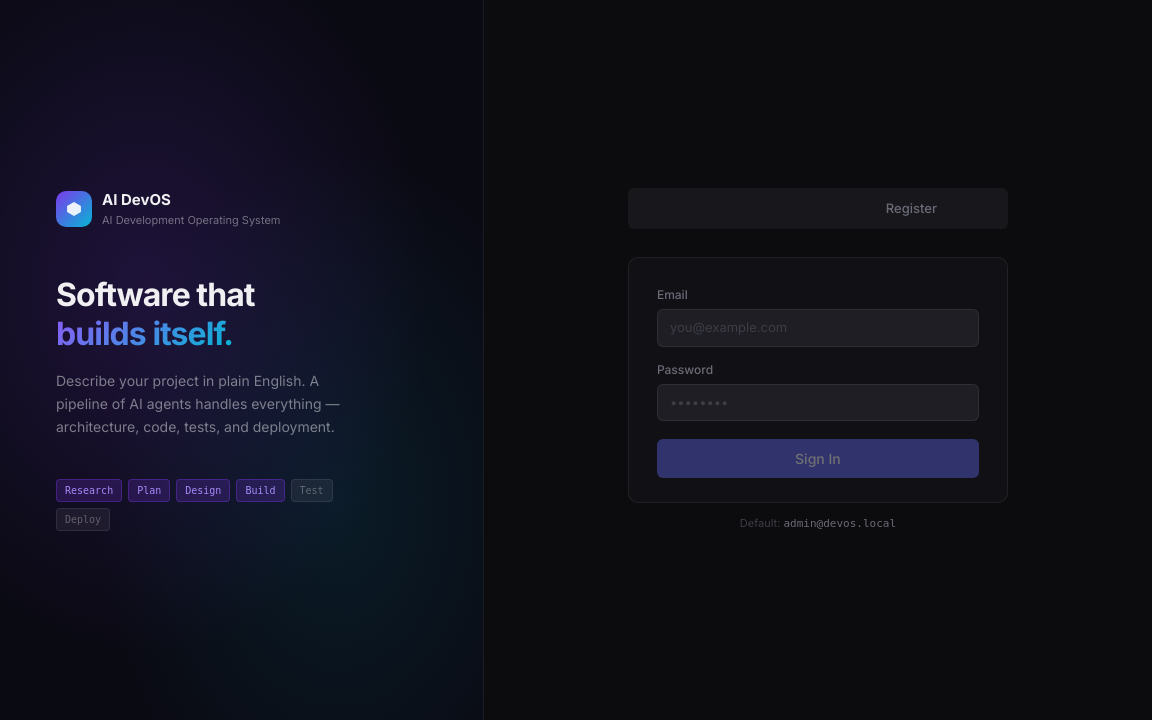
Test: LoginPage — register mode › shows 'Passwords don't match' error before submitting
This screenshot has width=1152, height=720.
Step 1. Click the button "Register" → (911, 208), box [818,190,1005,226]
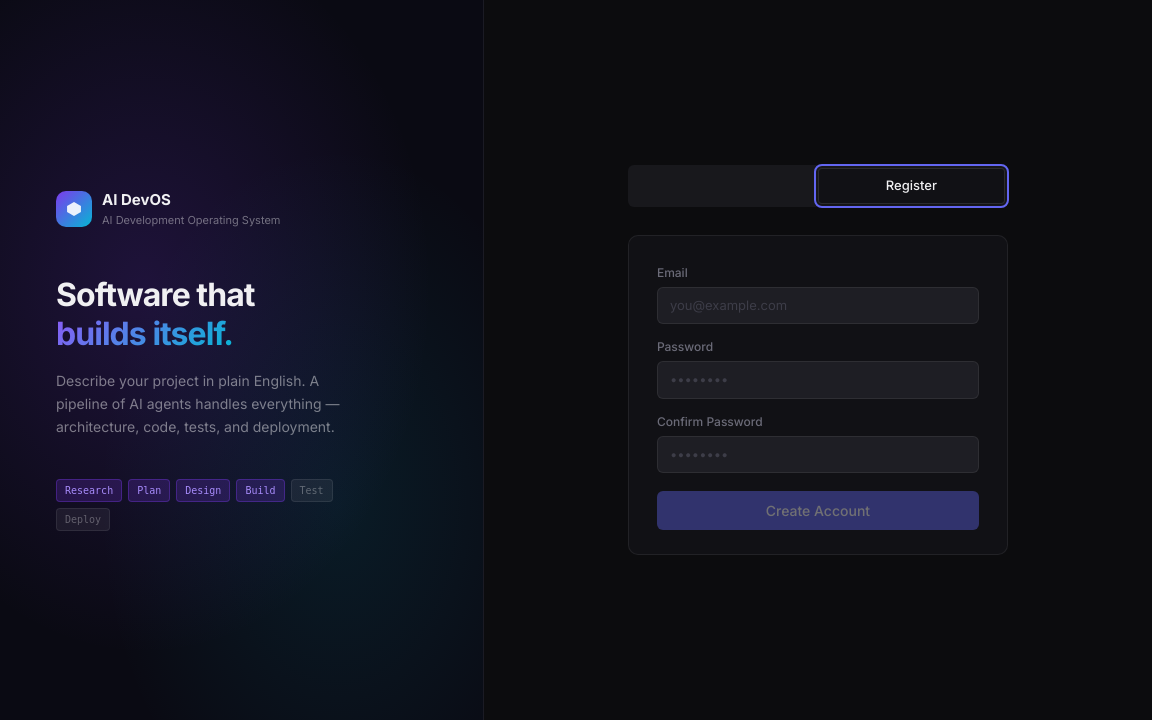
Step 2. Type "dev@x.com" into the field with placeholder "you@example.com" → (818, 305), box [657,286,979,324]
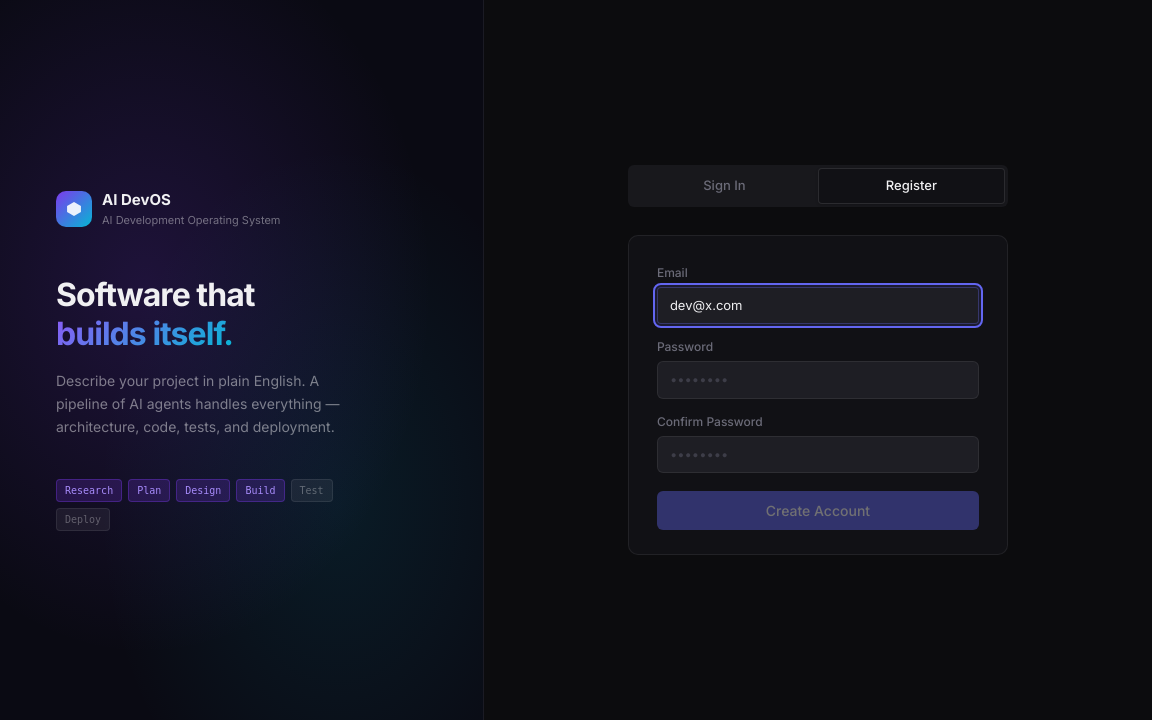
Step 3. Type "pass1234" into the 1st password field with placeholder "••••••••" → (818, 380), box [657,361,979,398]
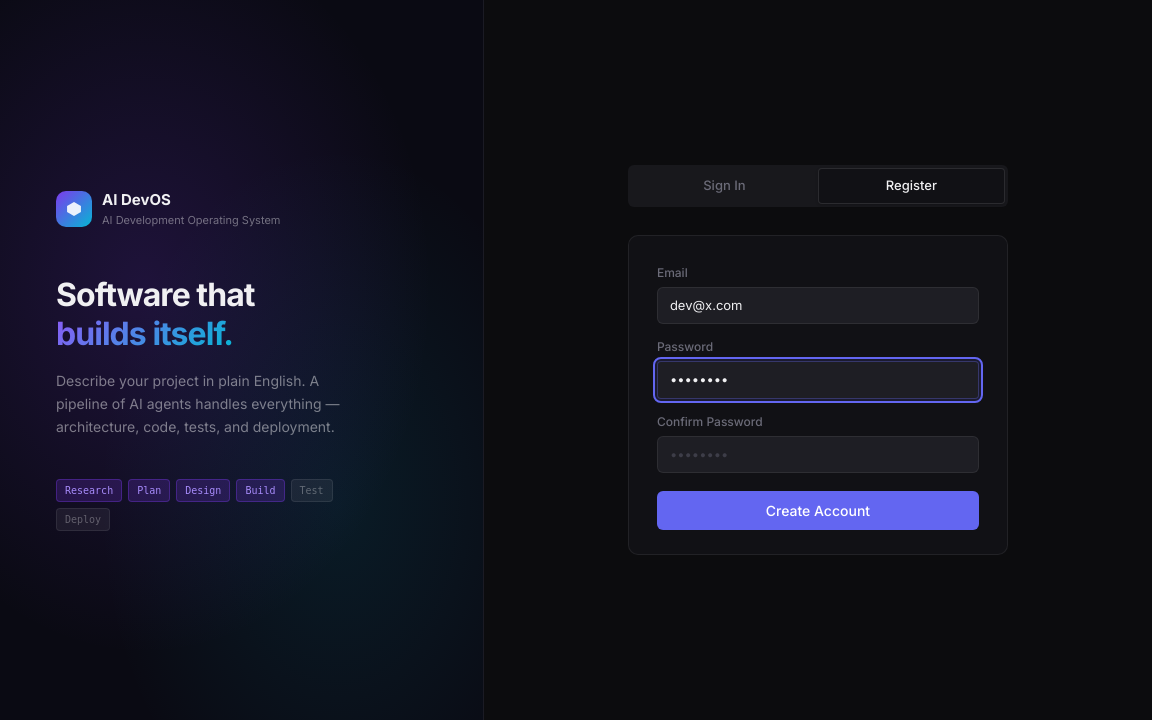
Step 4. Type "different" into the password field with placeholder "••••••••" → (818, 454), box [657,436,979,473]
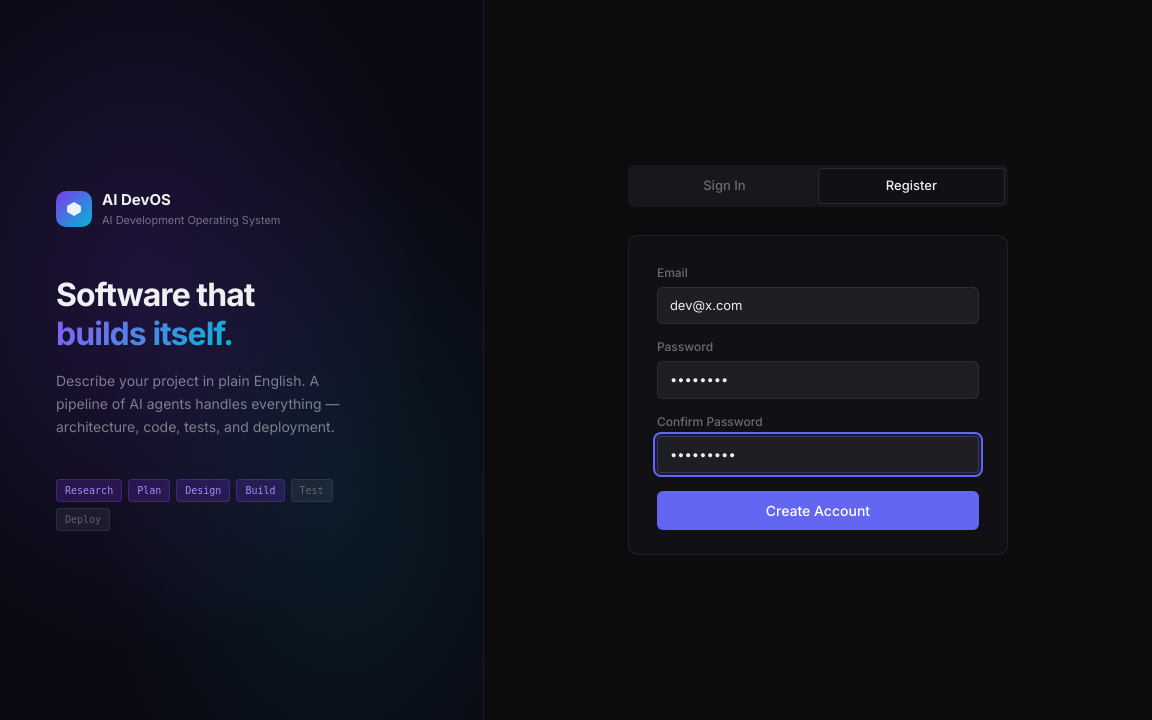
Step 5. Click the button "Create Account" → (818, 510), box [657,491,979,530]
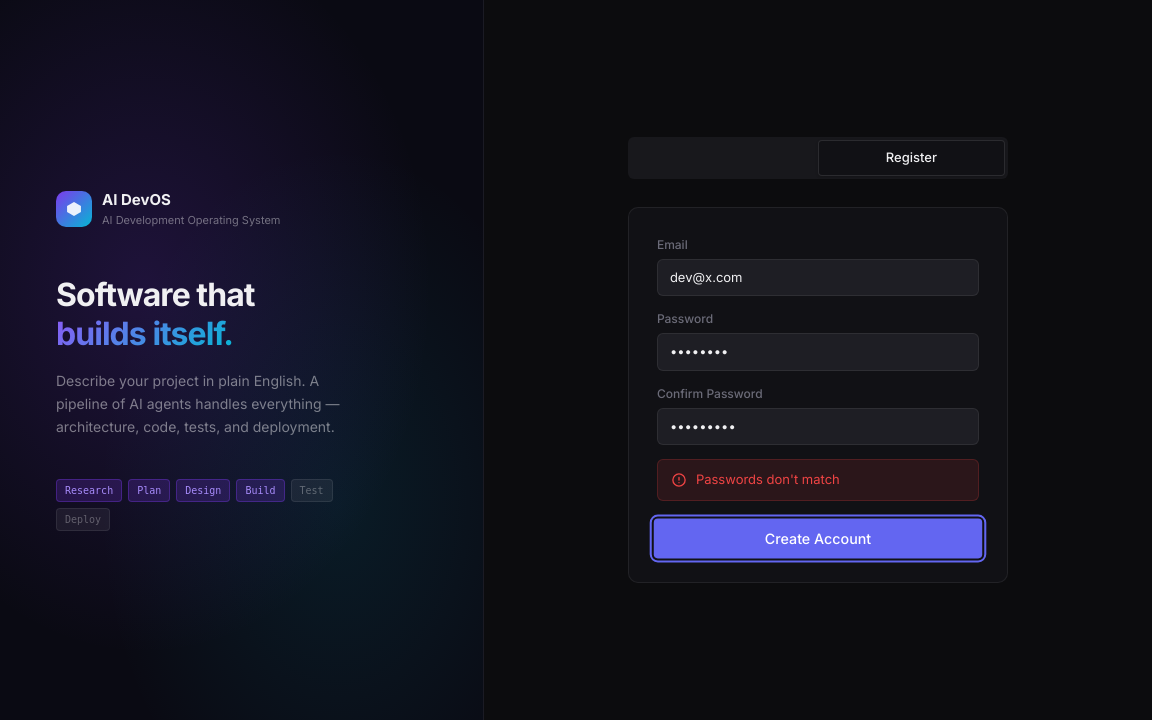
Now the text "Passwords don't match" is shown, box [657,459,979,501]
